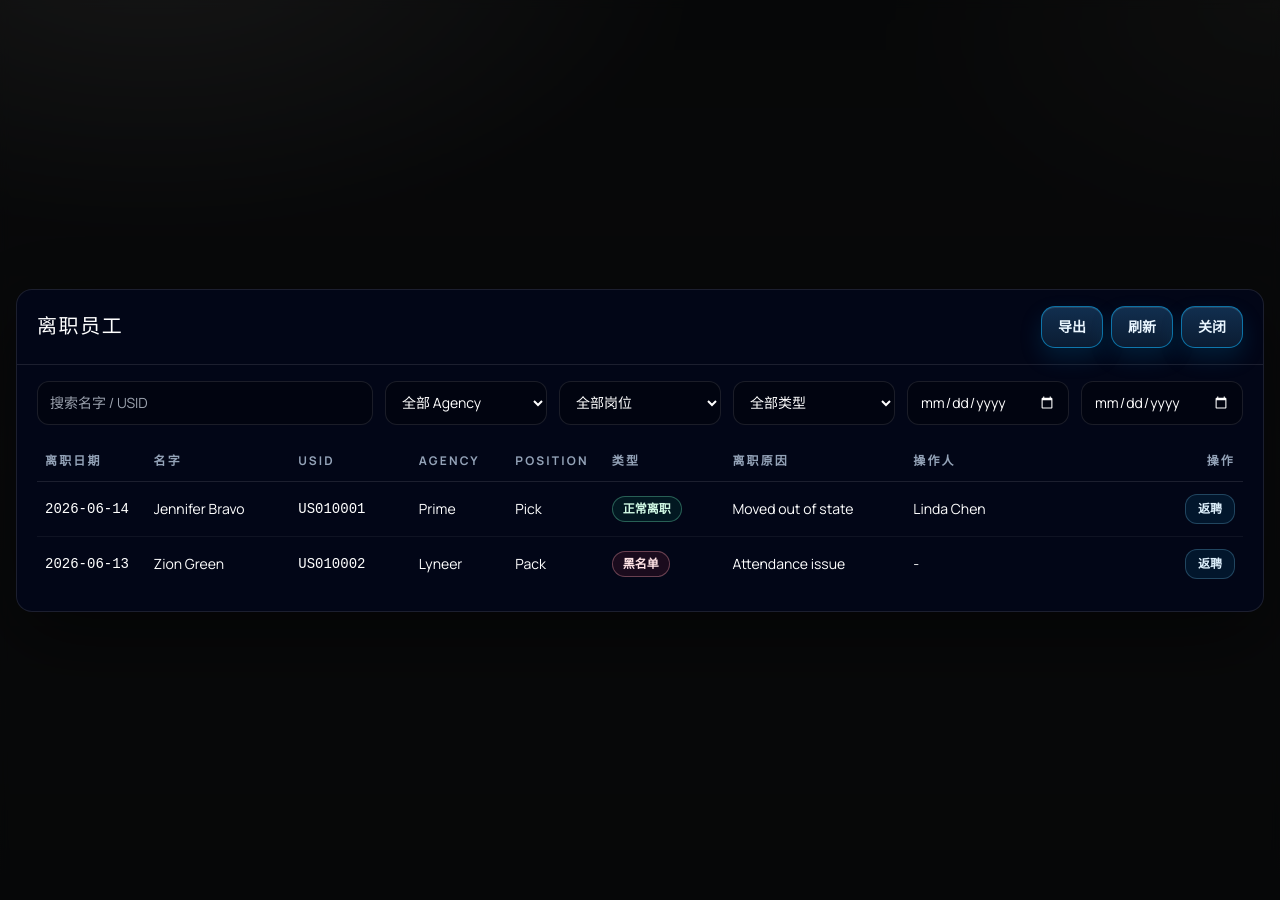
Test: DepartedEmployeesModal › filters by termination type
Select "黑名单" in the 3rd dropdown at point(814, 402), box [733,380,895,424]
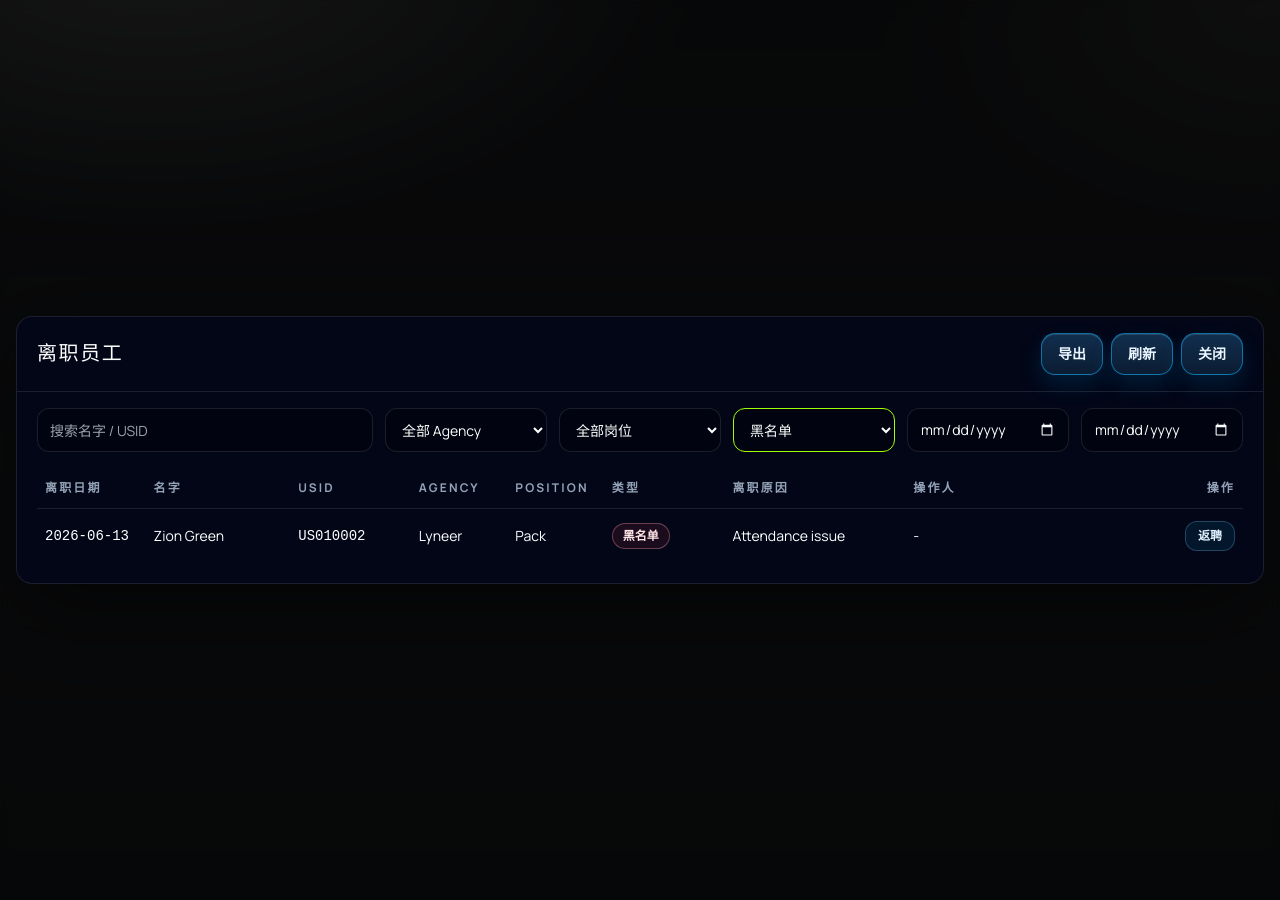
Expected: the text "Zion Green" is shown, [154,526,224,545]
Expected: the text "Jennifer Bravo" is gone
